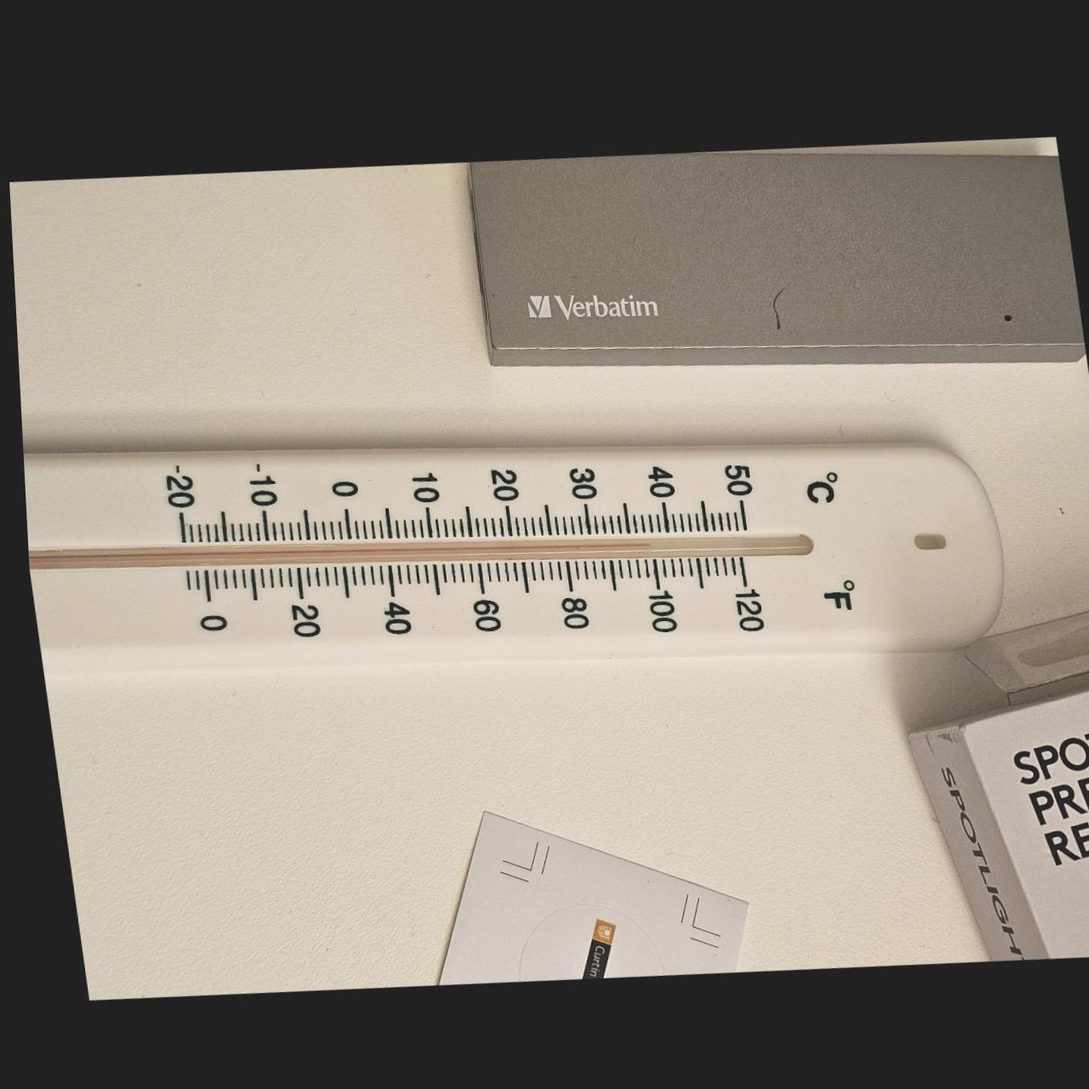thermometer: (19, 366, 1024, 736)
